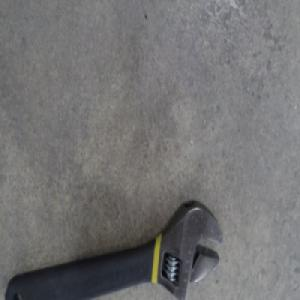AdjustableWrench: (5, 199, 224, 299)
